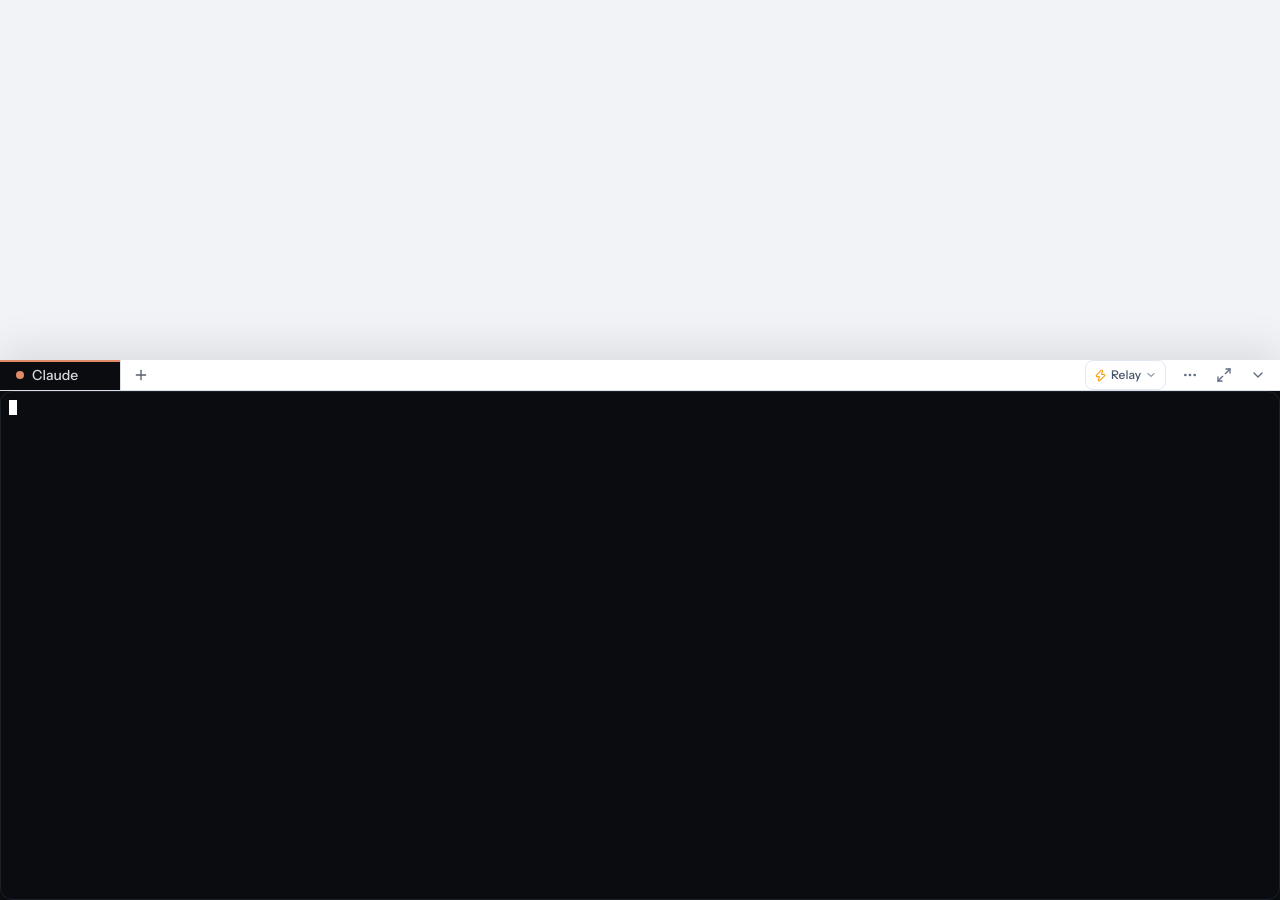
GlobalTerminalDrawer › renders handoff button when active tab is an agent engine and can toggle dropdown
The image size is (1280, 900).
// Open menu
What coordinates should you click on to do the following:
click the button with test id "handoff-button"
I would click on:
 (1126, 375)
Its box is [1085, 360, 1166, 390].
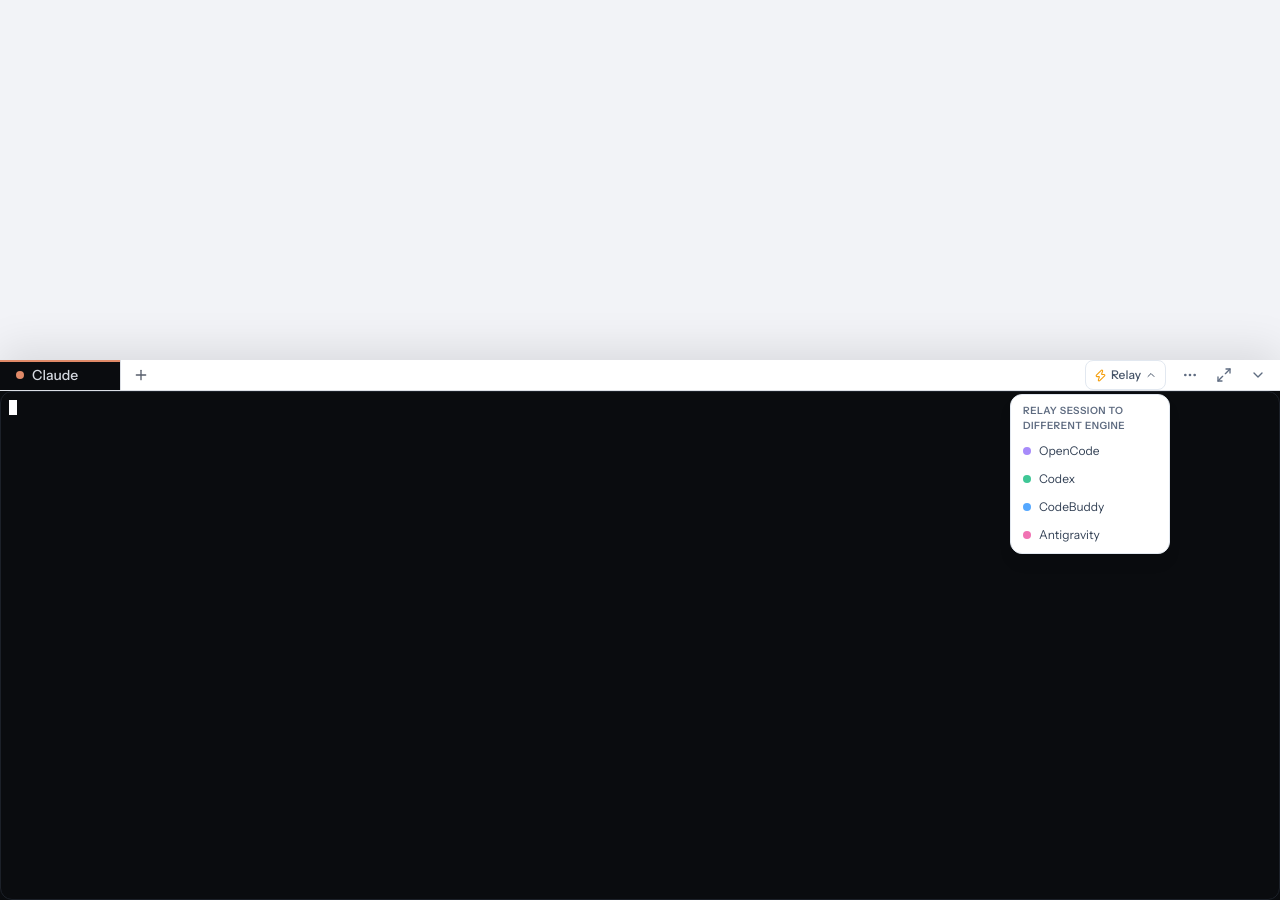
Now the element with test id "handoff-menu" is shown, box [1010, 394, 1170, 554]
// Toggle menu off
What coordinates should you click on to do the following:
click the button with test id "handoff-button"
I would click on:
 (1126, 375)
Its box is [1085, 360, 1166, 390].
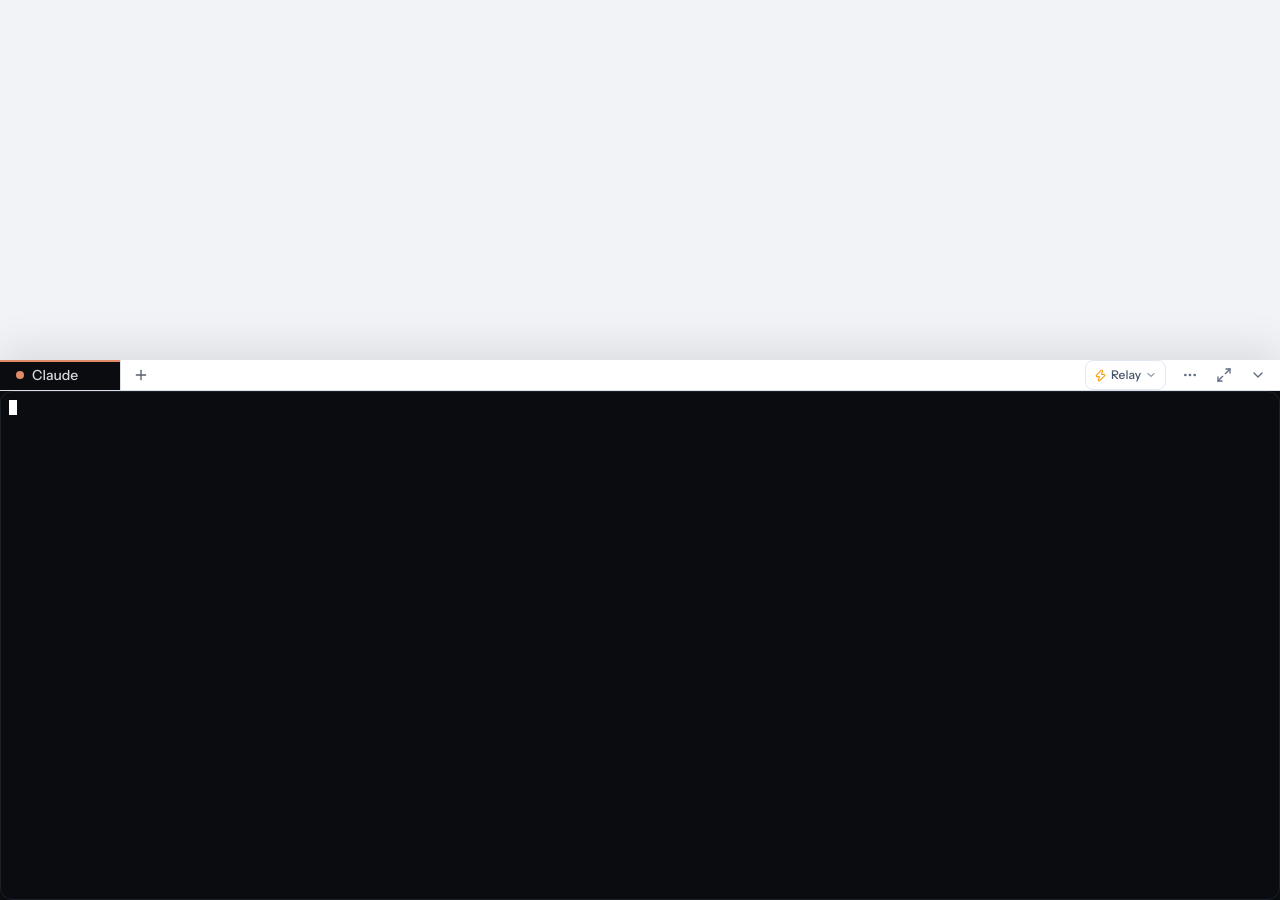
Now the element with test id "handoff-menu" is gone
